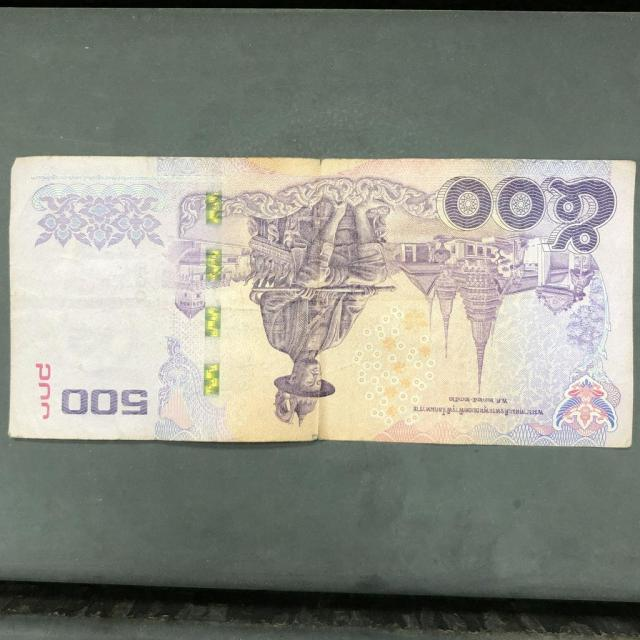THAI500: (9, 158, 635, 448)
